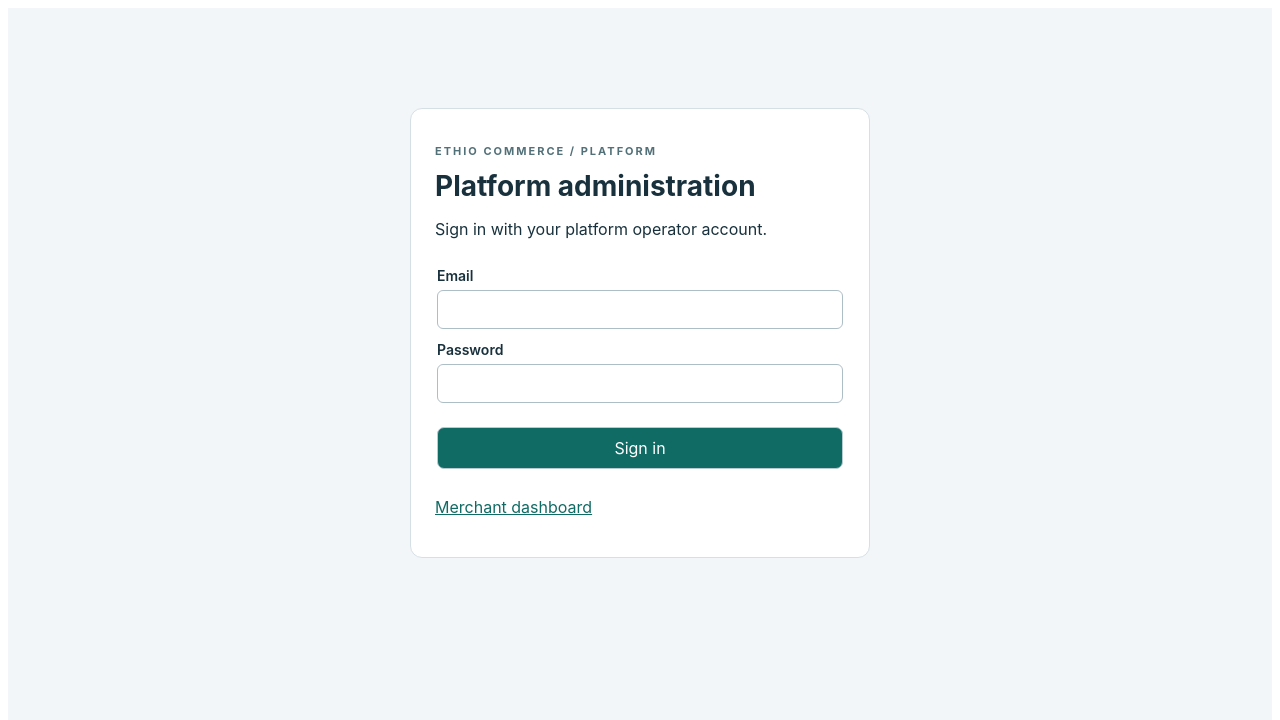
Test case: platform session isolation UI › keeps Administrator B signed in after Administrator A receives a delayed 401
Type "a@example.com" into the field labelled "Email" at (640, 310), box [437,290,843,329]
Type "test-password" into the password field labelled "Password" at (640, 384), box [437,364,843,403]
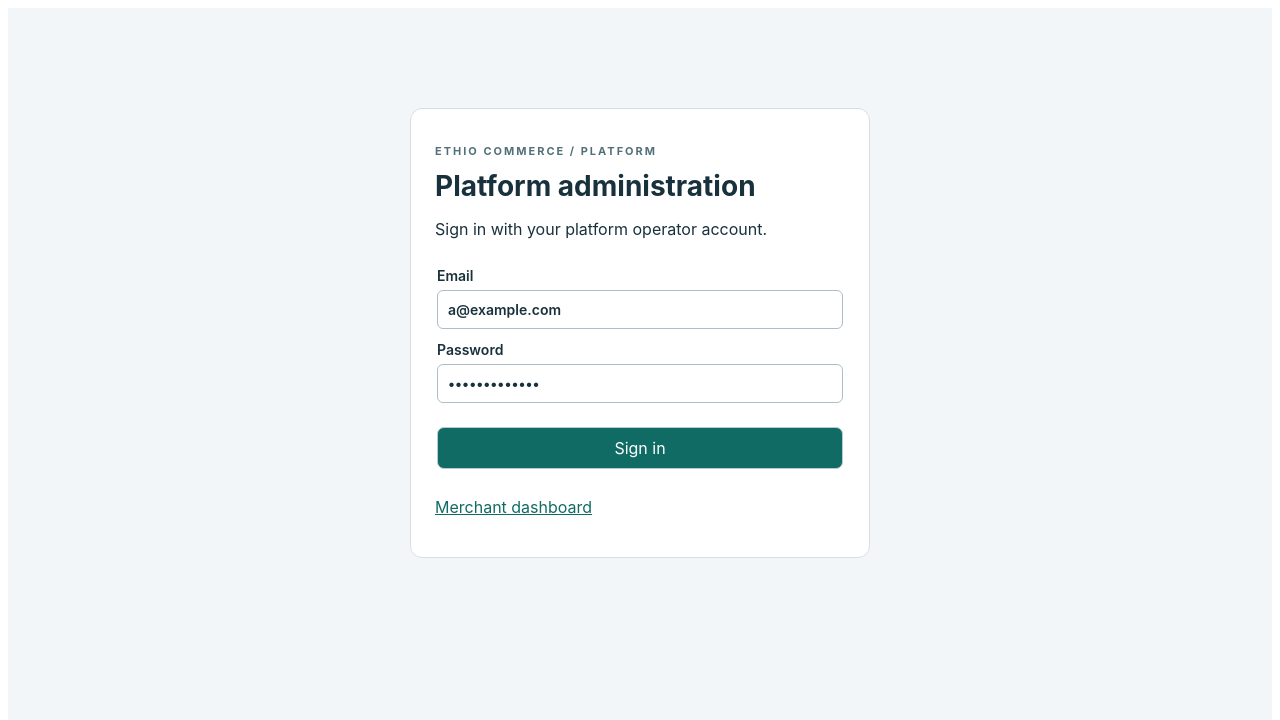
Click the button "Sign in" at (640, 448), box [437,427,843,469]
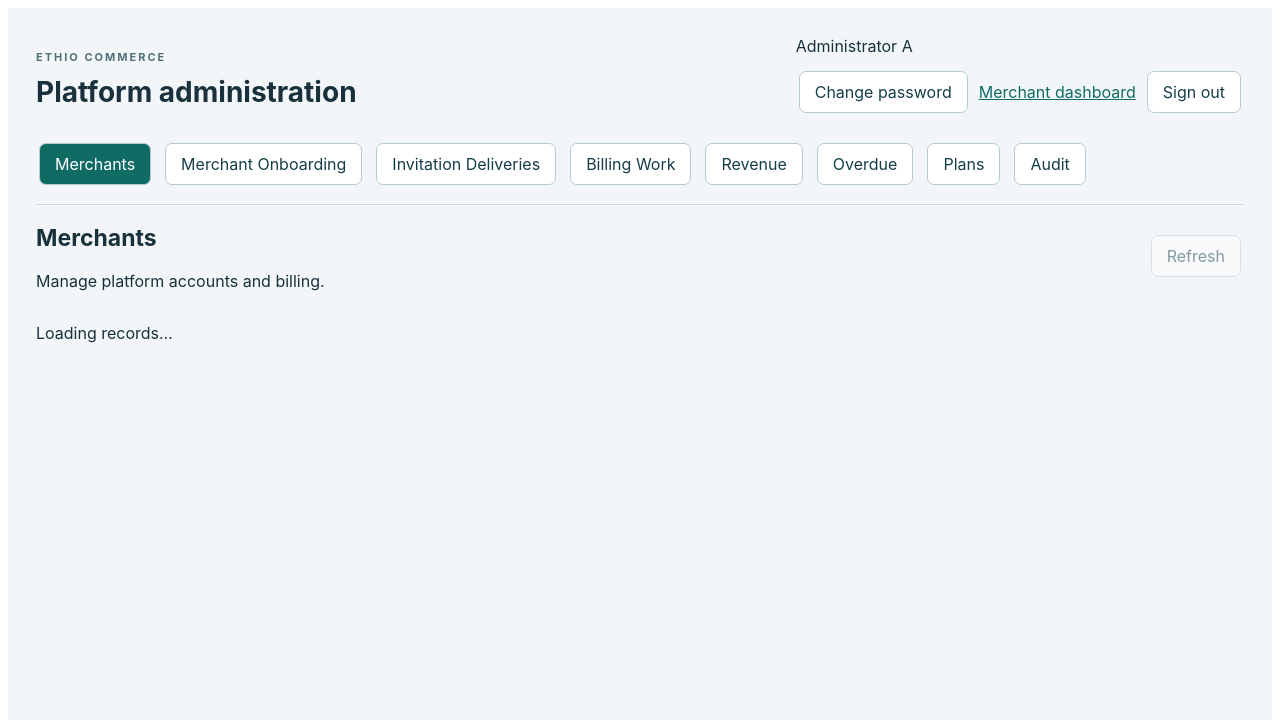
Expected: the text "Administrator A" is shown, [796,36,913,56]
Click the button "Sign out" at (1194, 92), box [1147,71,1241,113]
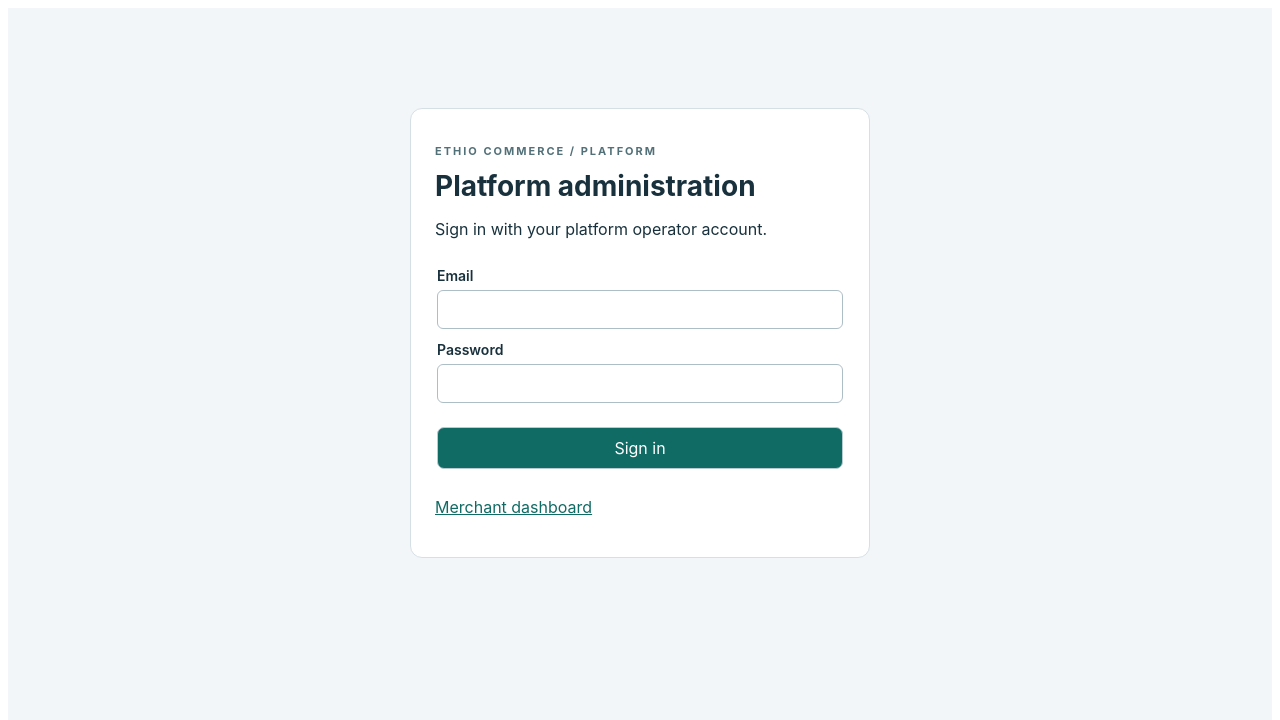
Type "b@example.com" into the field labelled "Email" at (640, 310), box [437,290,843,329]
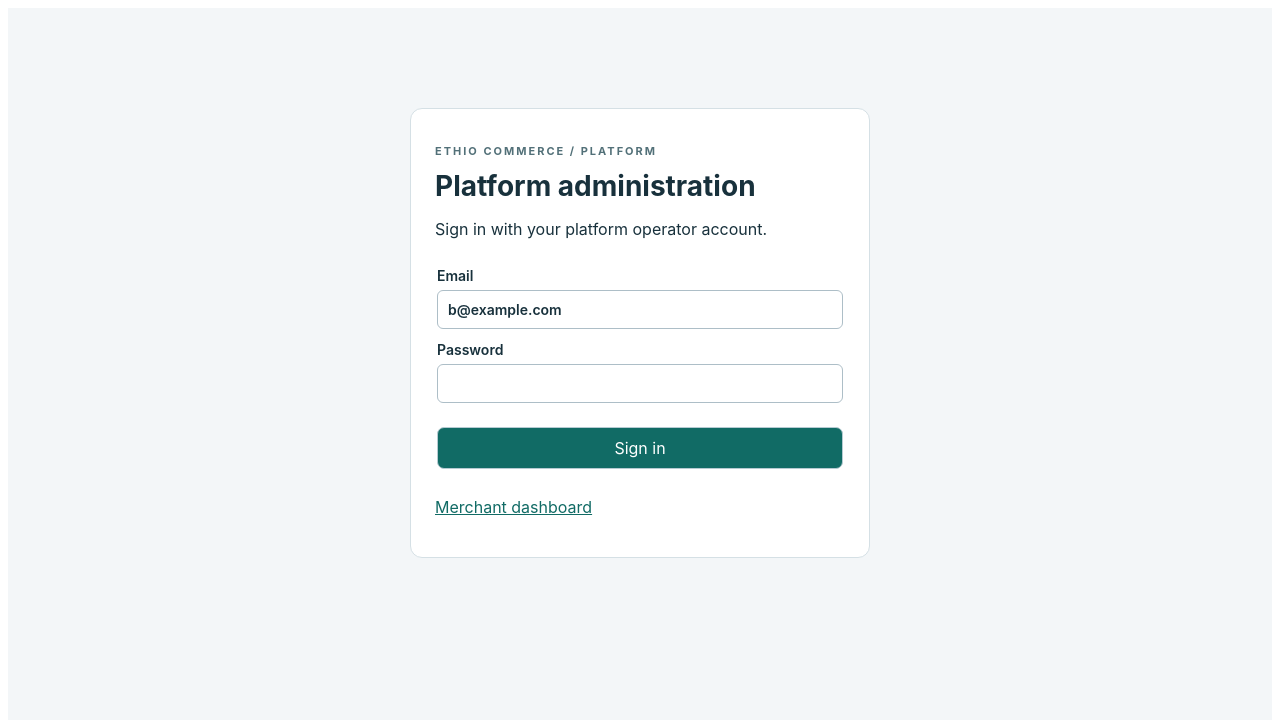
Type "test-password" into the password field labelled "Password" at (640, 384), box [437,364,843,403]
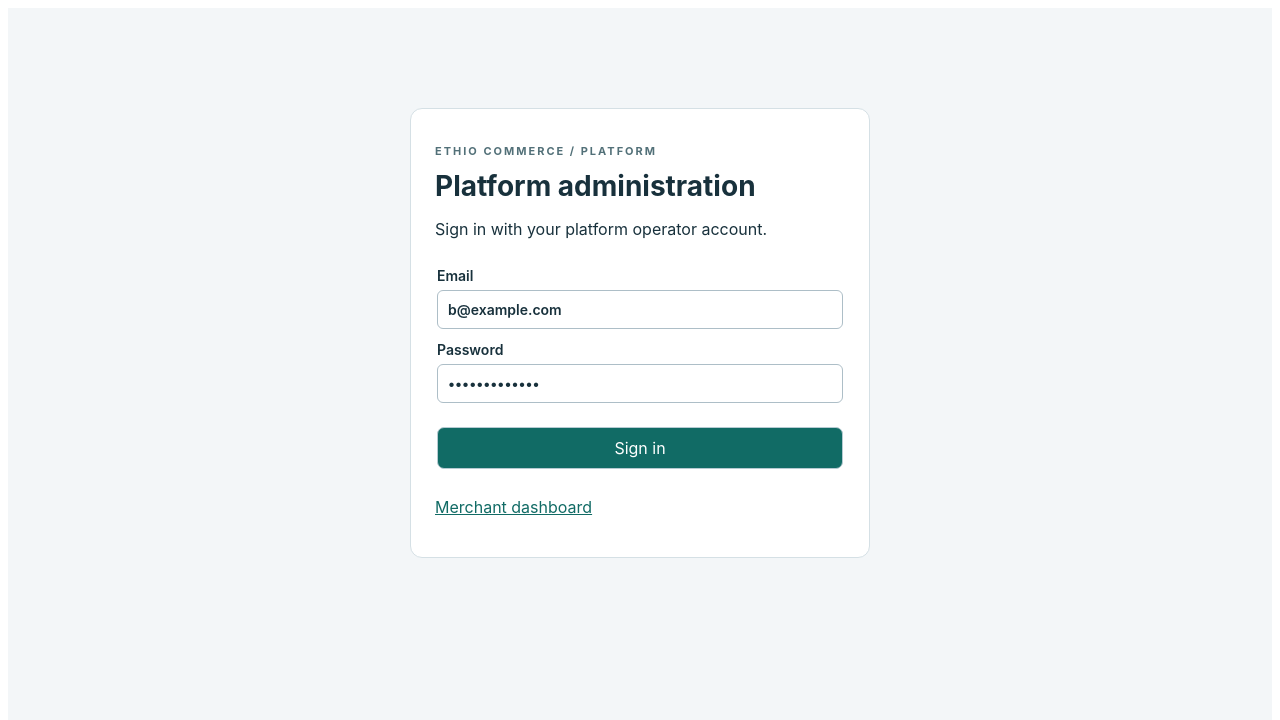
Click the button "Sign in" at (640, 448), box [437,427,843,469]
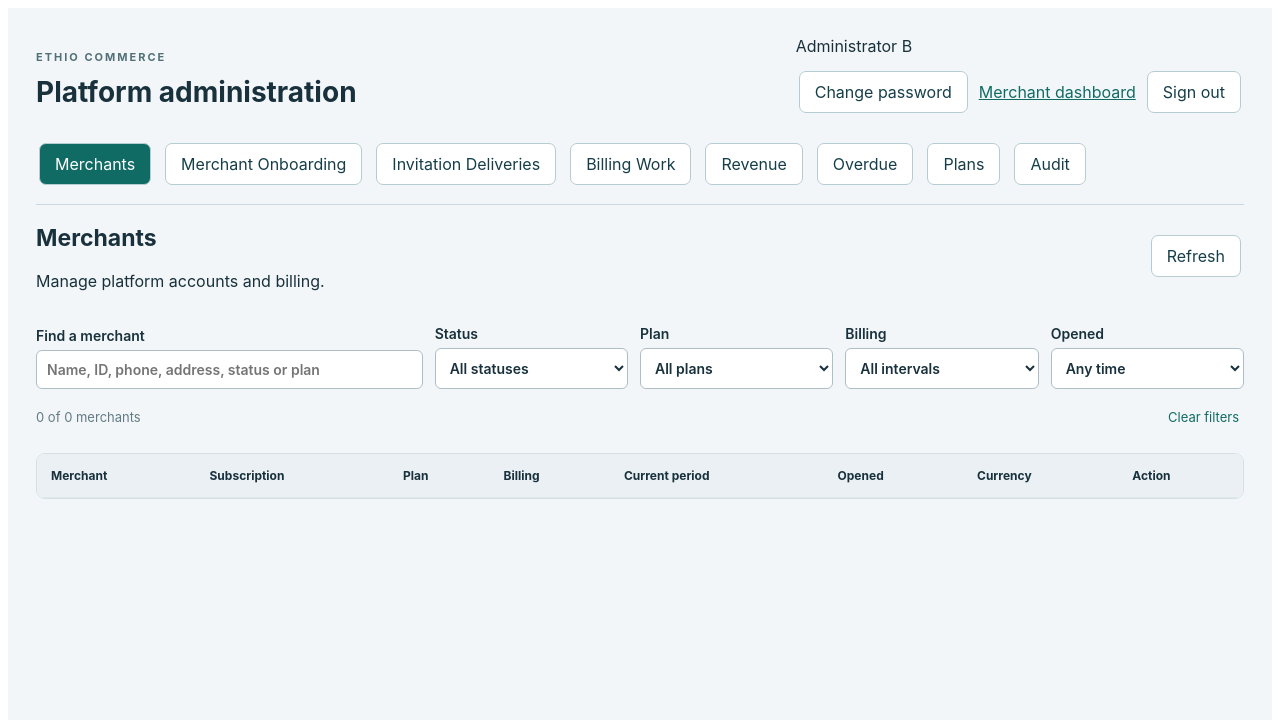
Expected: the text "Administrator B" is shown, [796,36,912,56]
Expected: the button "Sign out" is shown, [1147,71,1241,113]
